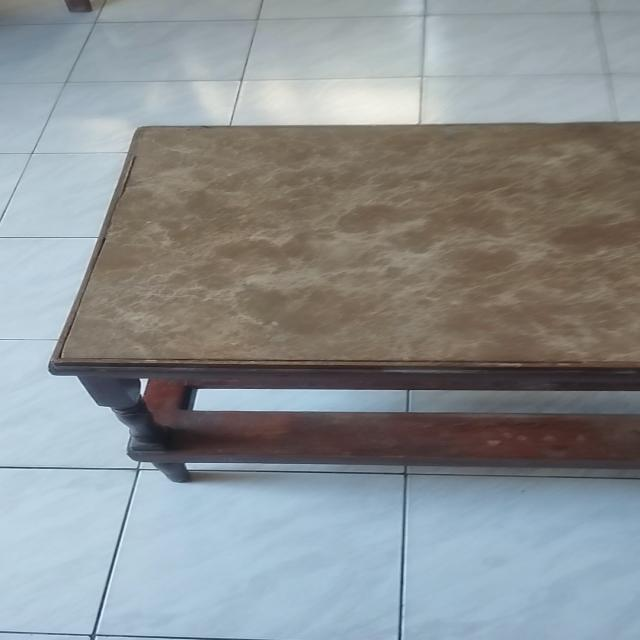table: (42, 114, 640, 485)
